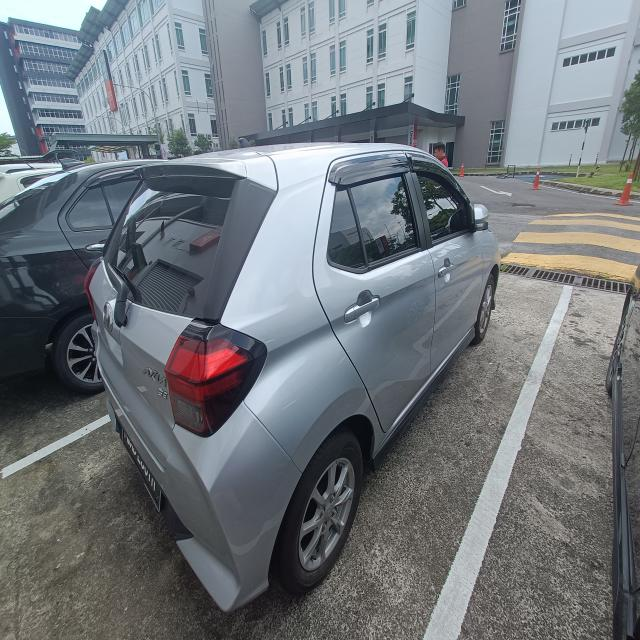PeroduaAxia: (84, 140, 502, 613)
